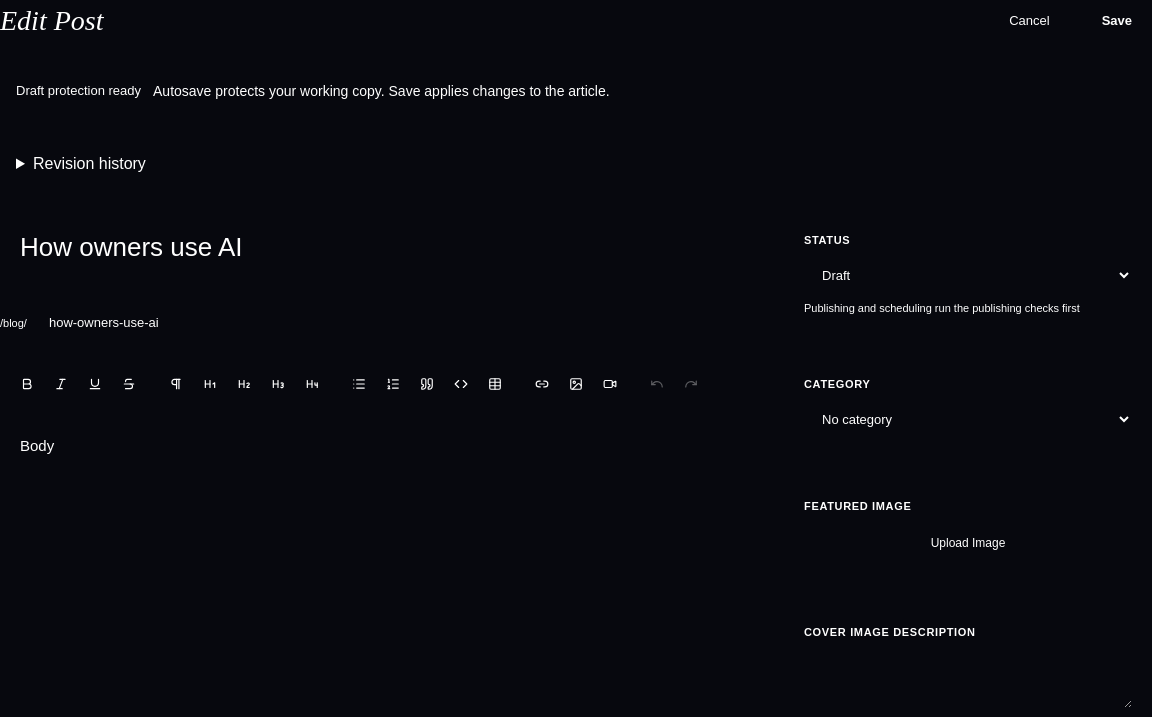
Test case: publishing from the editor › opens a one-article override with a typed reason when the gate blocks
Later steps or results of the test are not shown.
Select "Published" in the dropdown labelled "Status" at (968, 275), box [804, 257, 1132, 294]
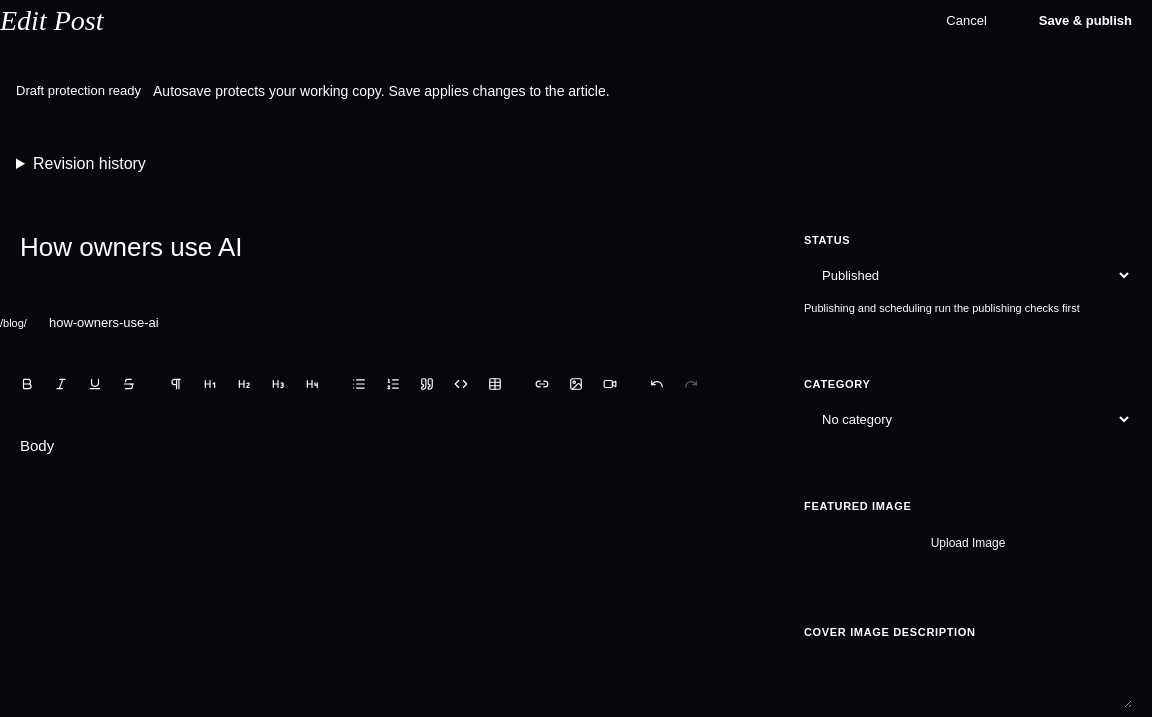
Click the button "Save & publish" at (1085, 21), box [1019, 1, 1151, 41]
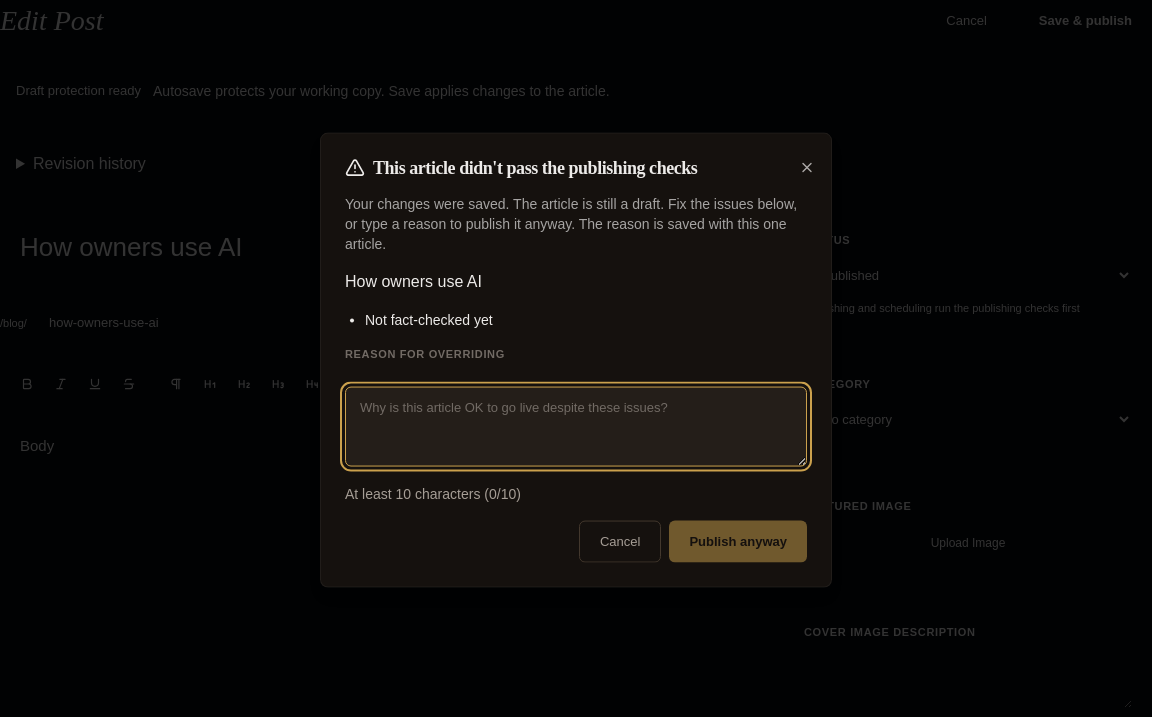
Now the list item "Not fact-checked yet" is shown, box [365, 312, 493, 328]
Now the button "Publish anyway" is disabled, box [670, 521, 807, 562]
Type "too short" into the text box labelled "Reason for overriding" at (576, 426), box [345, 386, 807, 467]
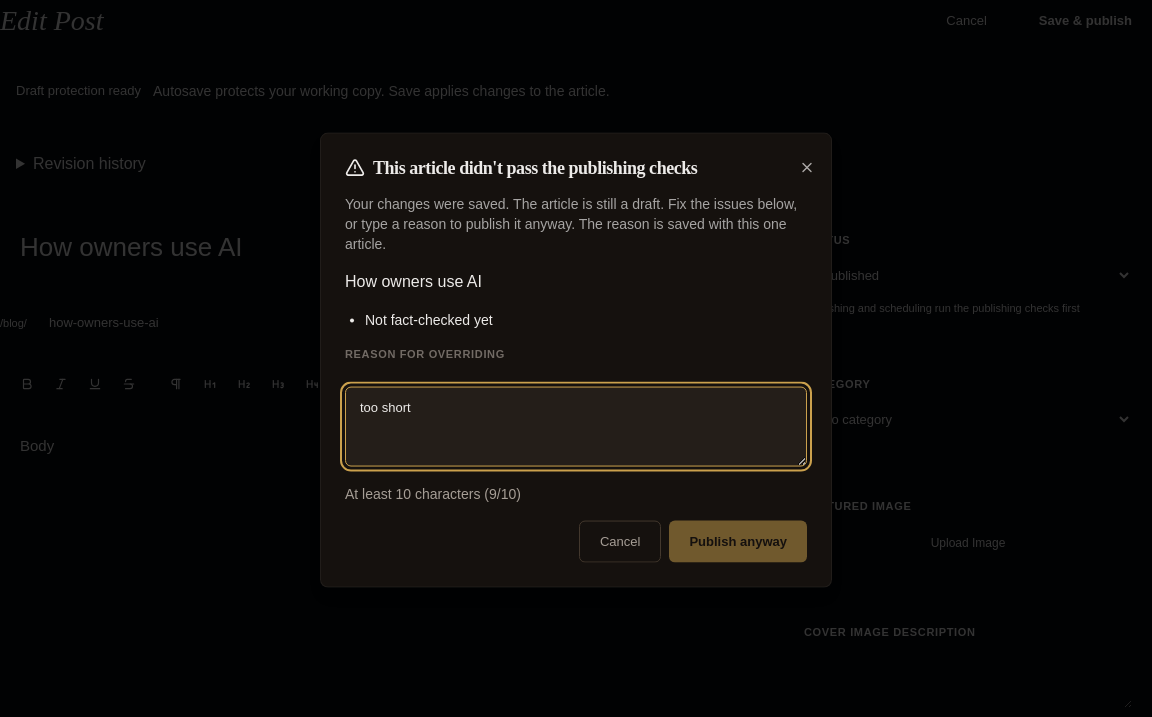
Now the button "Publish anyway" is disabled, box [670, 521, 807, 562]
Replace the text in the text box labelled "Reason for overriding" with "Checked both sources by hand" at (576, 426), box [345, 386, 807, 467]
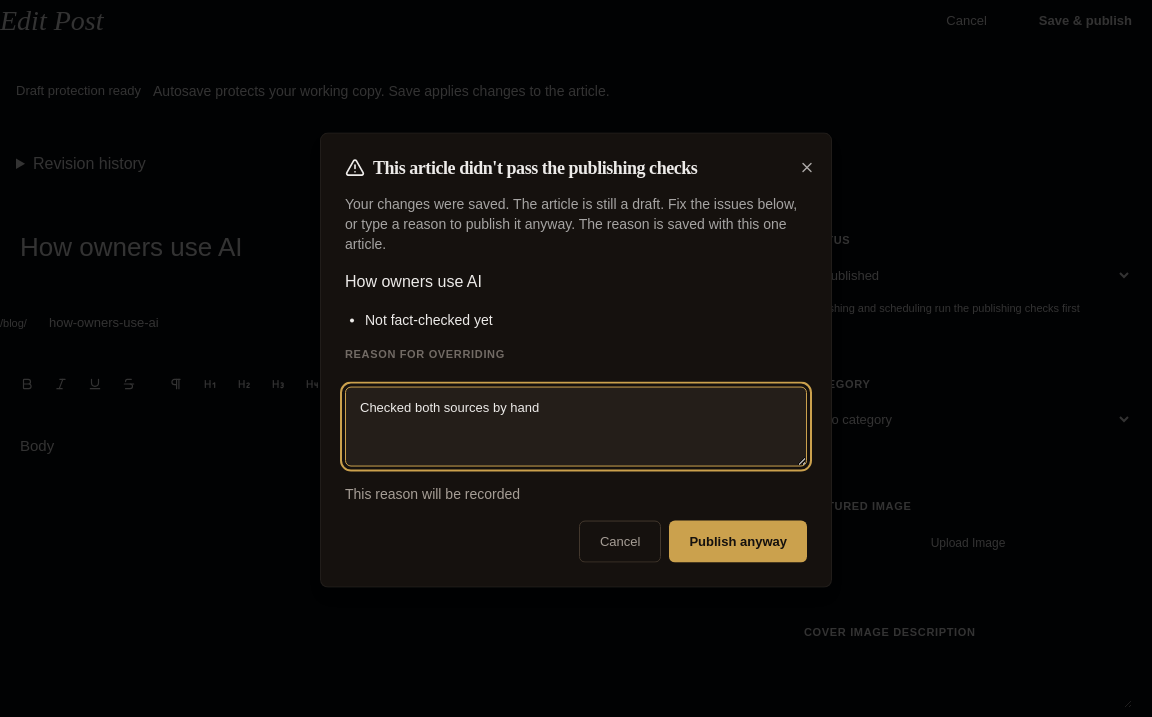
Now the button "Publish anyway" is enabled, box [670, 521, 807, 562]
